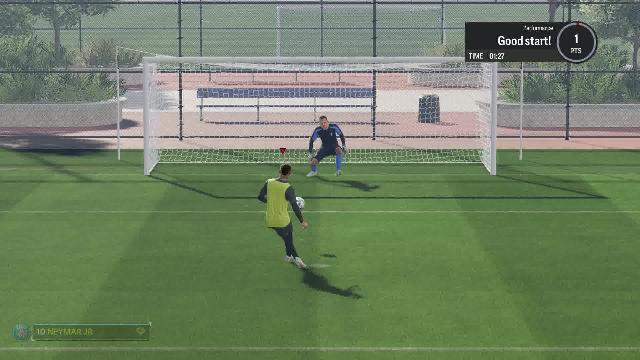circle: (300, 262, 340, 270)
football: (293, 197, 309, 212)
goal-bottom-left: (156, 122, 260, 178)
goal-bottom-right: (372, 130, 484, 178)
goal-middle-down: (262, 126, 370, 178)
goal-middle-up: (263, 66, 371, 124)
goal-top-left: (154, 66, 262, 122)
goal-top-right: (372, 66, 484, 127)
goalkeeper: (301, 96, 344, 178)
player: (239, 163, 317, 283)
